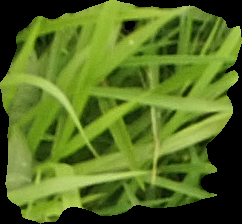grass: (1, 1, 239, 222)
